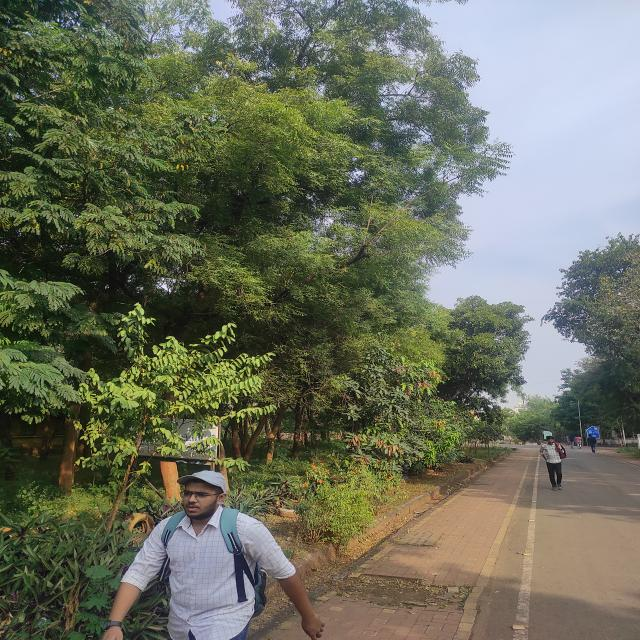Devakanchan tree: (562, 235, 638, 377), (457, 305, 514, 386)
Neem Tree: (191, 18, 420, 336)
